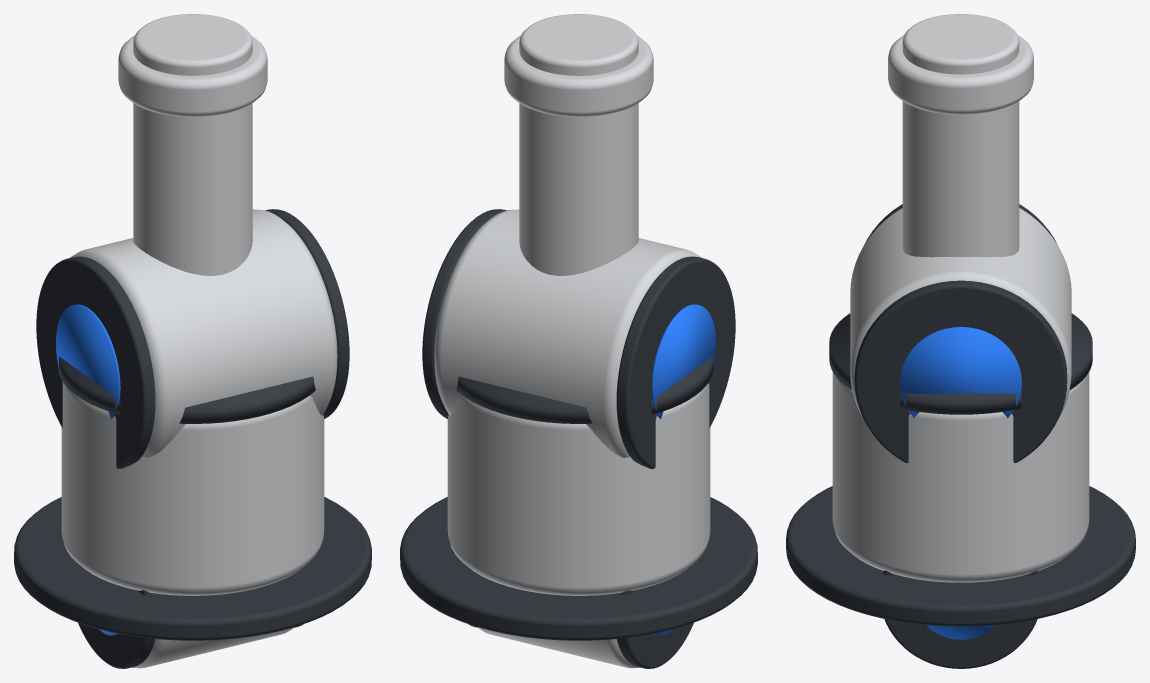
File: arm6.glb
3 renders of one model, left to right at view 1: azimuth 30°, elevation 25°; view 2: azimuth 150°, elevation 25°; view 3: azimuth 270°, elevation 25°, orthographic. The views are drawn at different scales.
Visible parts, largest first — view 1: BaseBody, J2Housing, UpperLink, BasePlate, J2Housing_Cap_-1, UpperCollarB, BaseRing, J2Housing_Ring_-1, J2Housing_Cap_1, J3Housing_Cap_-1, J3Housing; view 2: BaseBody, J2Housing, UpperLink, BasePlate, J2Housing_Cap_-1, UpperCollarB, BaseRing, J2Housing_Ring_-1, J2Housing_Cap_1, J3Housing_Cap_-1, J3Housing; view 3: BaseBody, UpperLink, BasePlate, J2Housing_Cap_1, J2Housing, J2Housing_Ring_1, UpperCollarB, BaseRing, J3Housing_Cap_1, J3Housing_Ring_1.
Boxes of the visible parts, x1,y1,x2,y2 form: BaseBody: (61, 383, 324, 595); J2Housing: (70, 209, 337, 457); UpperLink: (133, 14, 252, 275); BasePlate: (14, 497, 371, 640); J2Housing_Cap_-1: (36, 256, 155, 468); UpperCollarB: (118, 35, 267, 116); BaseRing: (58, 356, 315, 423); J2Housing_Ring_-1: (56, 304, 120, 419); J2Housing_Cap_1: (265, 209, 349, 418); J3Housing_Cap_-1: (78, 590, 155, 668); J3Housing: (132, 627, 294, 668); BaseBody: (447, 383, 710, 595); J2Housing: (434, 209, 701, 457); UpperLink: (519, 14, 638, 275); BasePlate: (400, 497, 757, 640); J2Housing_Cap_-1: (616, 256, 735, 468); UpperCollarB: (504, 35, 653, 116); BaseRing: (456, 356, 713, 423); J2Housing_Ring_-1: (651, 304, 715, 419); J2Housing_Cap_1: (422, 209, 506, 418); J3Housing_Cap_-1: (616, 590, 693, 668); J3Housing: (477, 627, 639, 668); BaseBody: (832, 372, 1089, 582); UpperLink: (902, 14, 1019, 257); BasePlate: (786, 486, 1135, 626); J2Housing_Cap_1: (854, 280, 1067, 462); J2Housing: (850, 208, 1071, 416); J2Housing_Ring_1: (900, 327, 1021, 418); UpperCollarB: (888, 35, 1033, 114); BaseRing: (829, 313, 1092, 414); J3Housing_Cap_1: (883, 570, 1038, 668); J3Housing_Ring_1: (926, 625, 995, 639).
Bounding box in the file's own units: 0.6 × 1.13 × 0.6.
